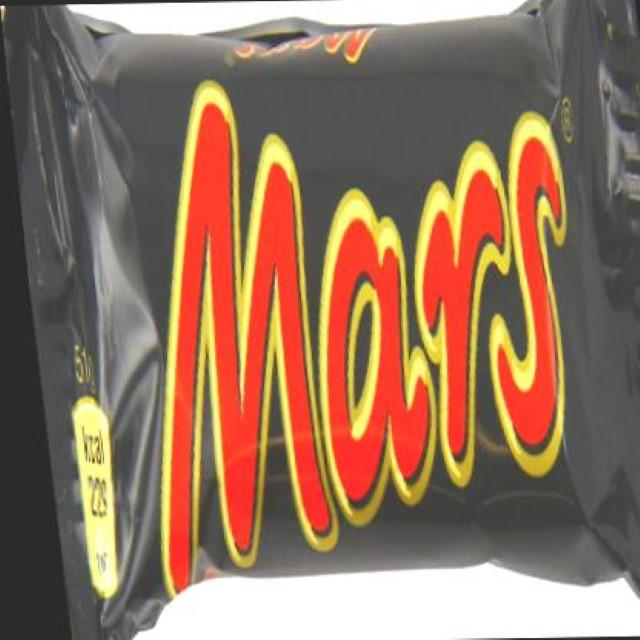mars_chocolate: (1, 14, 640, 623)
